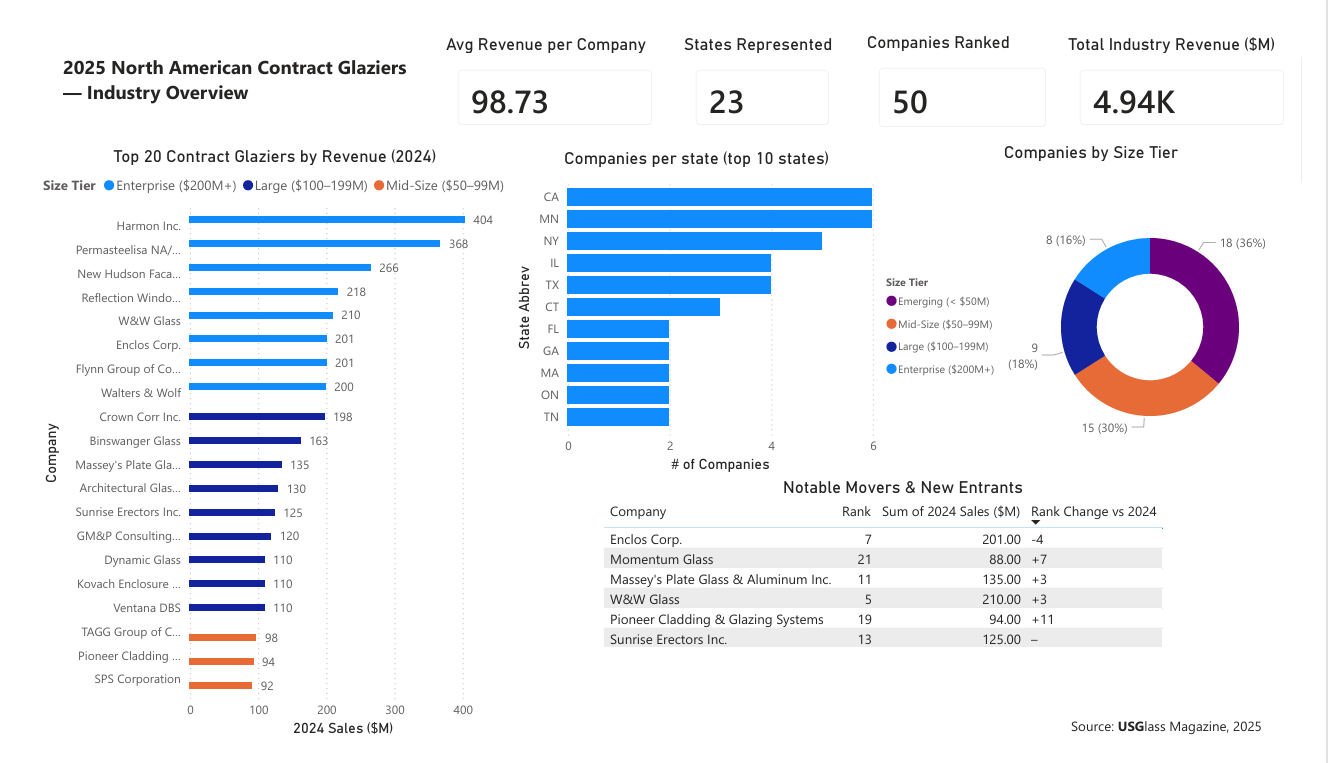

The dashboard page shown, as its layout file describes it:
{"tool":"powerbi","page":{"name":"Page 1","canvas":[1280,720],"ordinal":0},"visuals":[{"type":"clusteredBarChart","title":"Top 20 Contract Glaziers by Revenue (2024)","fields":{"Category":["Company Rankings.Company"],"Y":["Sum(Company Rankings.2024 Sales ($M))"],"Series":["Company Rankings.Size Tier"]},"box":[16.1,125.4,472.8,594.6],"z":0},{"type":"donutChart","title":"Companies by Size Tier","fields":{"Category":["Company Rankings.Size Tier"],"Y":["CountNonNull(Company Rankings.Company)"]},"box":[859,121,420,351],"z":1000},{"type":"cardVisual","title":"States Represented","fields":{"Data":["CountNonNull(State Summary.State Abbrev)"]},"box":[657,13,167,108],"z":2000},{"type":"cardVisual","title":"Avg Revenue per Company","fields":{"Data":["Avg(Company Rankings.2024 Sales ($M))"]},"box":[419,13,228,108],"z":3000},{"type":"cardVisual","title":"Companies Ranked","fields":{"Data":["CountNonNull(Company Rankings.Company)"]},"box":[840,11,201,112],"z":4000},{"type":"cardVisual","title":"Total Industry Revenue ($M)","fields":{"Data":["Sum(Company Rankings.2024 Sales ($M))"]},"box":[1041,13,238,108],"z":5000},{"type":"clusteredBarChart","title":"Companies per state (top 10 states)","fields":{"Category":["State Summary.State Abbrev"],"Y":["Sum(State Summary.# of Companies)"]},"box":[489,127.2,370.7,328.7],"z":6000},{"type":"tableEx","title":"Notable Movers & New Entrants","fields":{"Values":["Company Rankings.Company","Company Rankings.Rank","Sum(Company Rankings.2024 Sales ($M))","Company Rankings.Rank Change vs 2024"]},"box":[577,456,608,208],"z":7000},{"type":"textbox","box":[1043.6,691.3,236.4,28.7],"z":8000},{"type":"textbox","box":[36,28,355,67],"z":8001}]}

Visuals, with their boxes in screenshot pixels (x1, y1, x2, y2), scaled from the page's 1280x720 canvas onto the 1328x763 screenshot:
"Top 20 Contract Glaziers by Revenue (2024)" clusteredBarChart: <box>17,133,507,762</box>
"Companies by Size Tier" donutChart: <box>891,128,1327,500</box>
"States Represented" cardVisual: <box>682,14,855,128</box>
"Avg Revenue per Company" cardVisual: <box>435,14,671,128</box>
"Companies Ranked" cardVisual: <box>872,12,1080,130</box>
"Total Industry Revenue ($M)" cardVisual: <box>1080,14,1327,128</box>
"Companies per state (top 10 states)" clusteredBarChart: <box>507,135,892,483</box>
"Notable Movers & New Entrants" tableEx: <box>599,483,1229,704</box>
textbox: <box>1083,733,1327,762</box>
textbox: <box>37,30,406,101</box>
